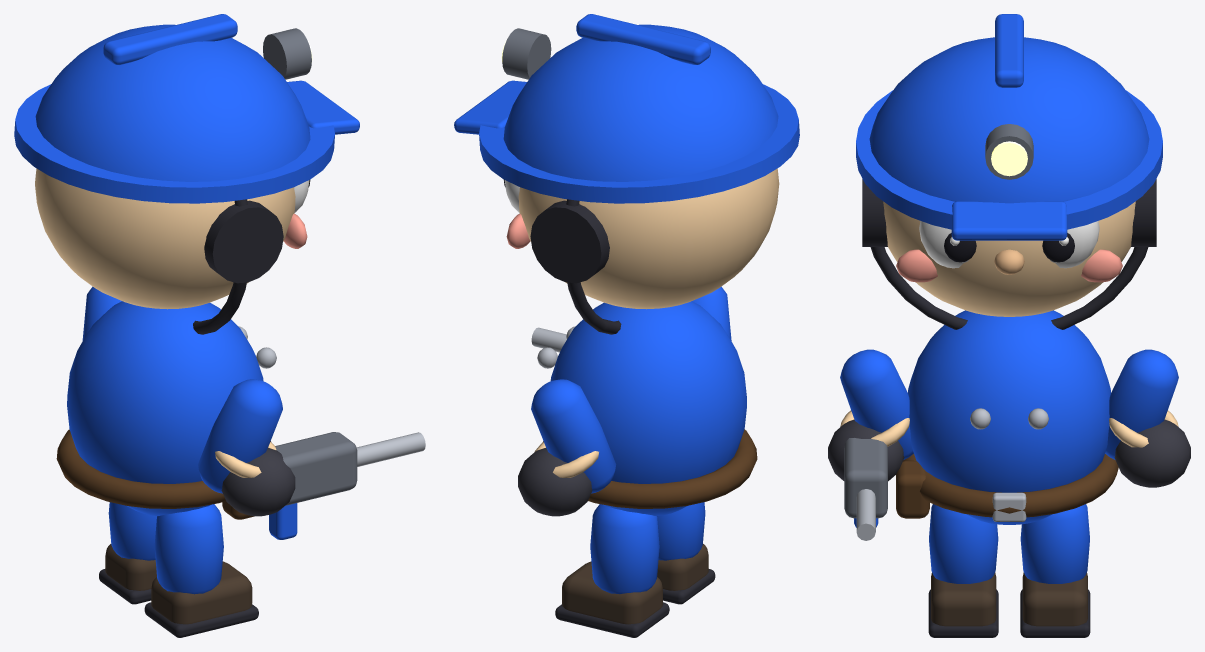
Rendered from worker_driller.glb.
3 views of the same model, side by side, from view 1: azimuth 30°, elevation 25°; view 2: azimuth 150°, elevation 25°; view 3: azimuth 270°, elevation 25° (orthographic).
Visible parts, largest first — view 1: Head.HatDome, Torso.Body, Head.Skull, Head.HatBrim, Leg.Upper.001, Arm.Upper.001, Head.Muff, Torso.Belt, Prop.DrillBody, Leg.Boot.001, Arm.Hand.001, Head.HatRidge (+12 smaller); view 2: Head.HatDome, Torso.Body, Head.Skull, Head.HatBrim, Leg.Upper, Arm.Upper, Head.Muff.001, Torso.Belt, Leg.Boot, Arm.Hand, Head.HatRidge, Leg.Upper.001 (+10 smaller); view 3: Head.HatDome, Torso.Body, Head.Skull, Head.HatBrim, Torso.Belt, Leg.Upper, Leg.Upper.001, Head.HatVisor, Arm.Upper, Arm.Upper.001, Arm.Hand, Head.MuffBand (+23 smaller).
Boxes of the visible parts, x1,y1,x2,y2 form: Head.HatDome: (35, 24, 310, 181); Torso.Body: (67, 301, 263, 516); Head.Skull: (35, 168, 295, 309); Head.HatBrim: (14, 84, 334, 203); Leg.Upper.001: (154, 504, 223, 594); Arm.Upper.001: (198, 379, 282, 493); Head.Muff: (204, 200, 283, 283); Torso.Belt: (56, 429, 271, 508); Prop.DrillBody: (275, 432, 357, 505); Leg.Boot.001: (151, 561, 252, 624); Arm.Hand.001: (221, 447, 295, 516); Head.HatRidge: (103, 14, 237, 64); Head.HatDome: (503, 24, 778, 181); Torso.Body: (550, 301, 746, 516); Head.Skull: (518, 168, 779, 309); Head.HatBrim: (479, 84, 799, 203); Leg.Upper: (590, 504, 659, 594); Arm.Upper: (531, 379, 616, 493); Head.Muff.001: (530, 200, 609, 283); Torso.Belt: (542, 429, 757, 508); Leg.Boot: (562, 561, 662, 624); Arm.Hand: (518, 448, 592, 516); Head.HatRidge: (576, 14, 710, 64); Leg.Upper.001: (657, 502, 705, 560); Head.HatDome: (869, 37, 1149, 203); Torso.Body: (908, 310, 1110, 524); Head.Skull: (883, 201, 1135, 316); Head.HatBrim: (856, 90, 1162, 229); Torso.Belt: (903, 454, 1118, 517); Leg.Upper: (1020, 504, 1089, 583); Leg.Upper.001: (929, 504, 998, 583); Head.HatVisor: (951, 201, 1067, 240); Arm.Upper: (1105, 349, 1178, 459); Arm.Upper.001: (840, 349, 913, 459); Arm.Hand: (1114, 419, 1190, 487); Head.MuffBand: (870, 247, 1148, 329).
Size of the model in its own units: 0.7559 by 1.31 by 0.7512.
